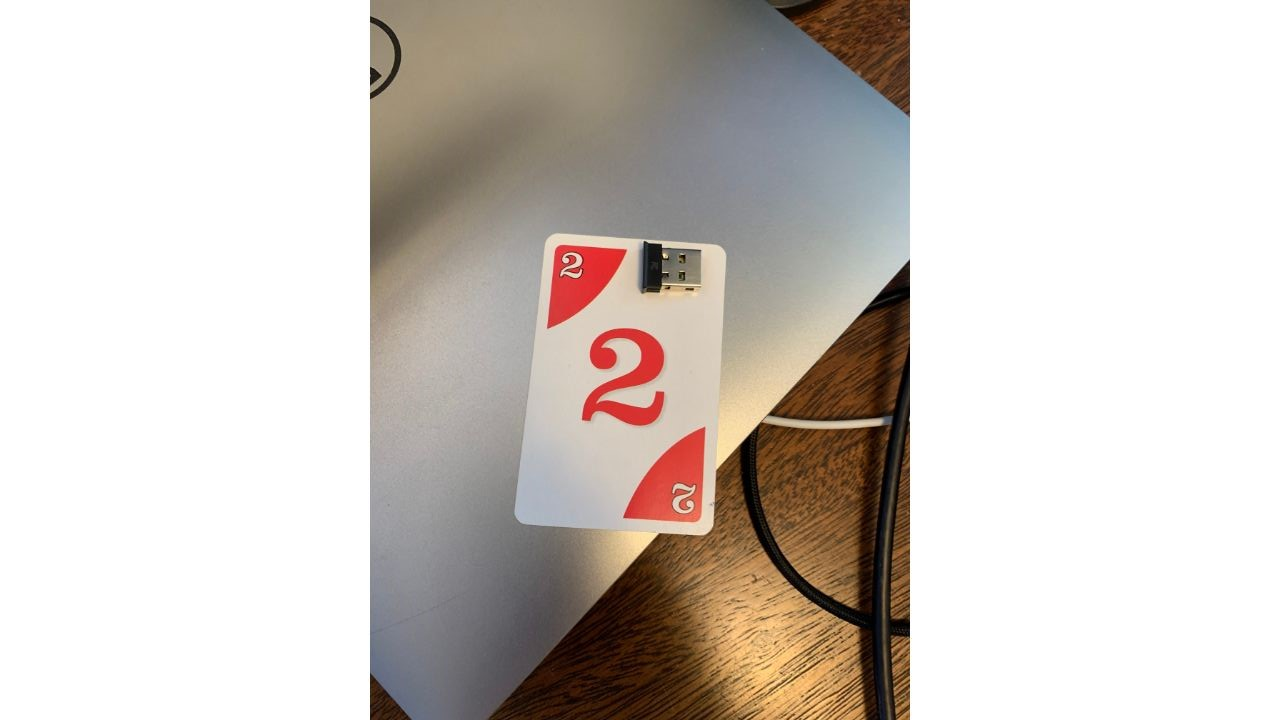two: (509, 233, 730, 540)
